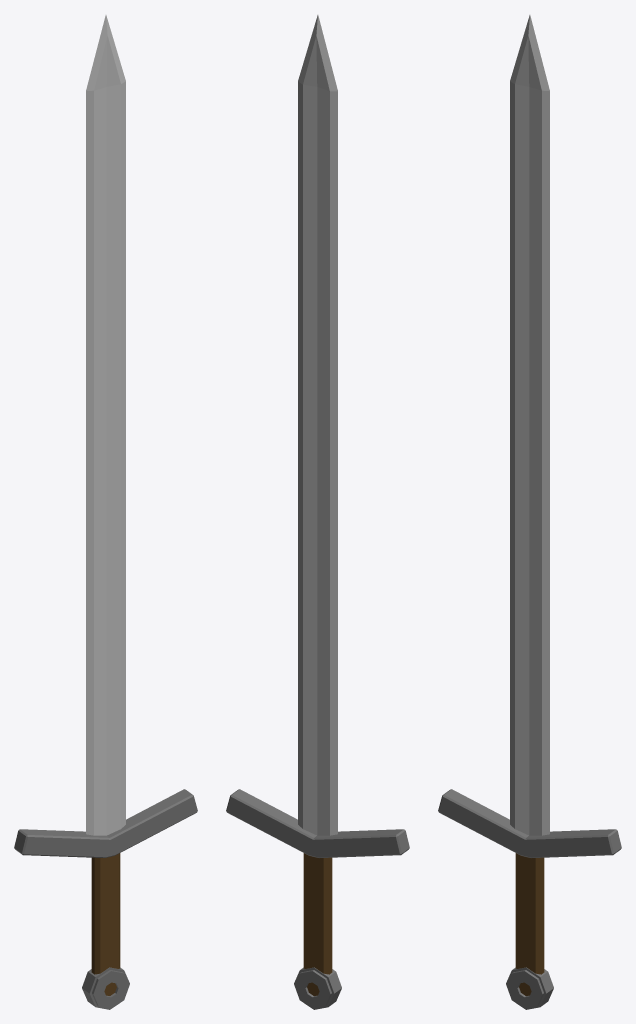
Rendered from Sword.fbx.
The picture shows the model from 3 angles, left to right: view 1: azimuth 30°, elevation 25°; view 2: azimuth 150°, elevation 25°; view 3: azimuth 330°, elevation 25°; orthographic projection.
Parts seen in each view (by area): view 1: Zwaard; view 2: Zwaard; view 3: Zwaard.
Part boxes in pixels (x1,y1,x2,y2): Zwaard: [14, 15, 197, 1009]; Zwaard: [226, 15, 409, 1009]; Zwaard: [438, 15, 621, 1009].
Size of the model in its own units: 0.1855 by 1 by 0.02.
